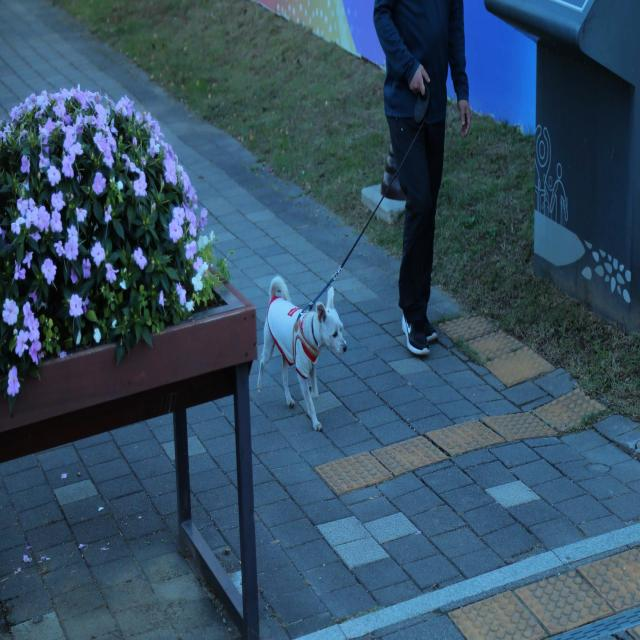Leashed_Dog: (256, 80, 426, 432)
